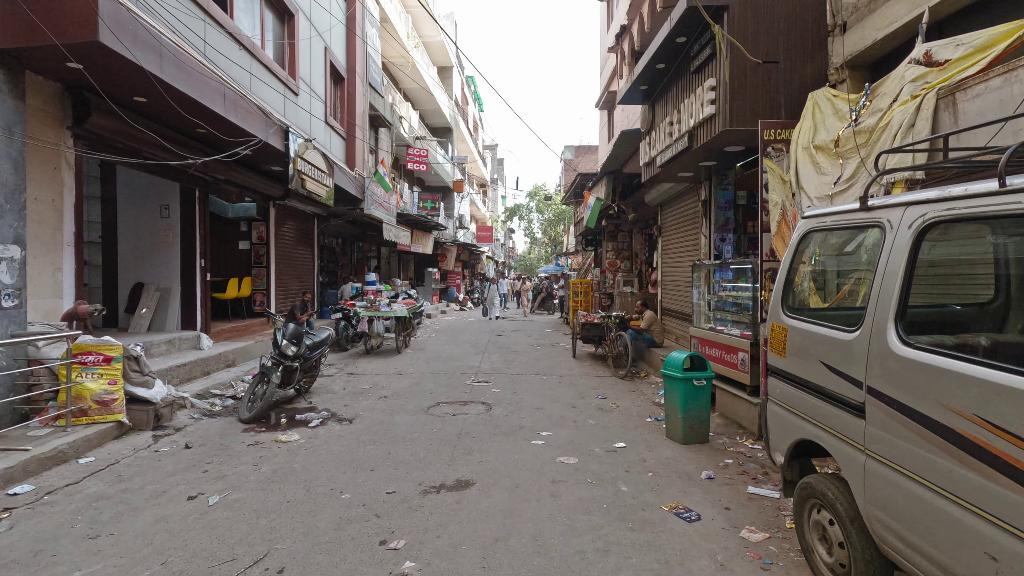dustbin: (659, 348, 720, 449)
garbage: (57, 337, 133, 427), (657, 496, 707, 529), (5, 476, 50, 497), (737, 519, 767, 545), (268, 425, 303, 447)
